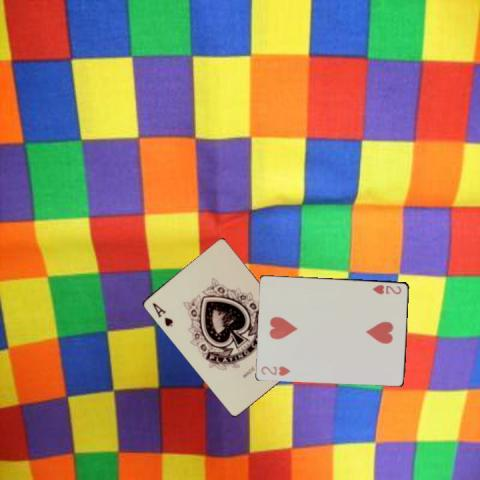2h: (258, 362, 292, 376), (370, 282, 403, 296)
As: (149, 299, 175, 328)
